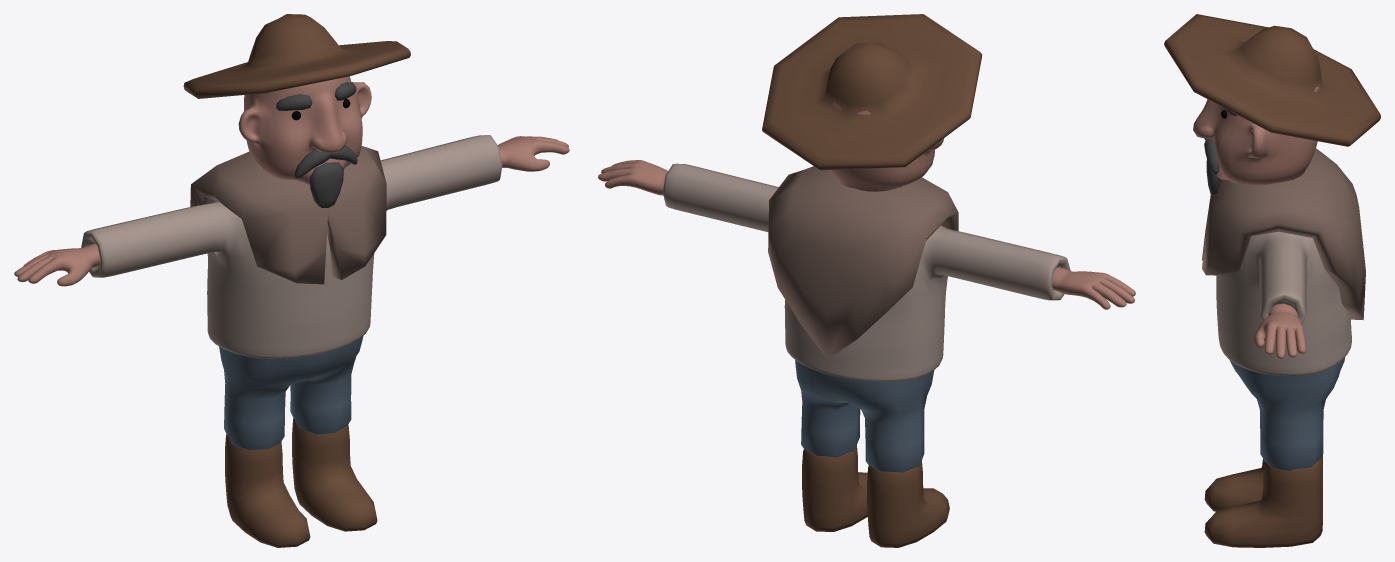
File: NPC_1_Male.fbx
3 views of the same model, side by side, from view 1: azimuth 30°, elevation 25°; view 2: azimuth 150°, elevation 25°; view 3: azimuth 270°, elevation 25° (orthographic). The views are drawn at different scales.
Parts seen in each view (by area): view 1: GEO_Npc1_Male_cuerpo, GEO_Npc1_Male_Cube.001, GEO_Npc1_Male_pies, GEO_Npc1_Male_Cube, GEO_Npc1_Male_Cube.006, GEO_Npc1_Male_cabeza, GEO_Npc1_Male_manos, GEO_Npc1_Male_Cube.002, GEO_Npc1_Male_cejas, GEO_Npc1_Male_cejas.001; view 2: GEO_Npc1_Male_Cube.006, GEO_Npc1_Male_Cube.001, GEO_Npc1_Male_cuerpo, GEO_Npc1_Male_Cube, GEO_Npc1_Male_pies, GEO_Npc1_Male_manos, GEO_Npc1_Male_cabeza; view 3: GEO_Npc1_Male_Cube.006, GEO_Npc1_Male_cuerpo, GEO_Npc1_Male_Cube.001, GEO_Npc1_Male_pies, GEO_Npc1_Male_Cube, GEO_Npc1_Male_cabeza, GEO_Npc1_Male_manos, GEO_Npc1_Male_cejas, GEO_Npc1_Male_Cube.002.
Boxes of the visible parts, box(x1,y1,x2,y2) form: GEO_Npc1_Male_cuerpo: box(81, 135, 502, 358); GEO_Npc1_Male_Cube.001: box(190, 146, 386, 284); GEO_Npc1_Male_pies: box(225, 418, 377, 547); GEO_Npc1_Male_Cube: box(219, 336, 363, 449); GEO_Npc1_Male_Cube.006: box(183, 14, 410, 98); GEO_Npc1_Male_cabeza: box(238, 76, 371, 185); GEO_Npc1_Male_manos: box(14, 136, 569, 286); GEO_Npc1_Male_Cube.002: box(309, 162, 343, 207); GEO_Npc1_Male_cejas: box(294, 145, 357, 178); GEO_Npc1_Male_cejas.001: box(276, 82, 356, 110); GEO_Npc1_Male_Cube.006: box(762, 14, 982, 170); GEO_Npc1_Male_Cube.001: box(768, 166, 958, 359); GEO_Npc1_Male_cuerpo: box(662, 163, 1070, 381); GEO_Npc1_Male_Cube: box(795, 360, 934, 472); GEO_Npc1_Male_pies: box(802, 445, 949, 547); GEO_Npc1_Male_manos: box(598, 160, 1135, 309); GEO_Npc1_Male_cabeza: box(829, 102, 943, 191); GEO_Npc1_Male_Cube.006: box(1164, 14, 1380, 146); GEO_Npc1_Male_cuerpo: box(1216, 231, 1351, 375); GEO_Npc1_Male_Cube.001: box(1202, 148, 1365, 320); GEO_Npc1_Male_pies: box(1204, 455, 1322, 547); GEO_Npc1_Male_Cube: box(1230, 357, 1345, 470); GEO_Npc1_Male_cabeza: box(1193, 86, 1318, 185); GEO_Npc1_Male_manos: box(1254, 303, 1305, 358); GEO_Npc1_Male_cejas: box(1204, 138, 1219, 174); GEO_Npc1_Male_Cube.002: box(1206, 159, 1220, 196).
Bounding box in the file's own units: 1.8 × 1.55 × 0.6195.
